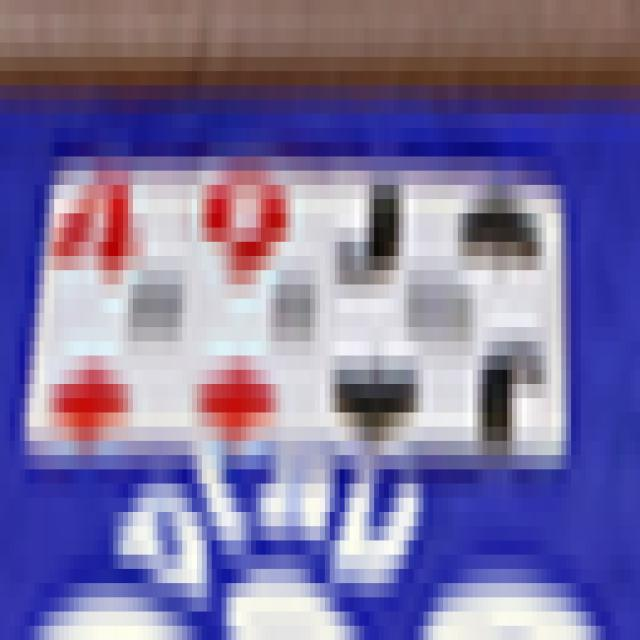Card-4: (32, 163, 191, 443)
Card-9: (186, 165, 326, 445)
Card-J: (329, 173, 564, 458)
